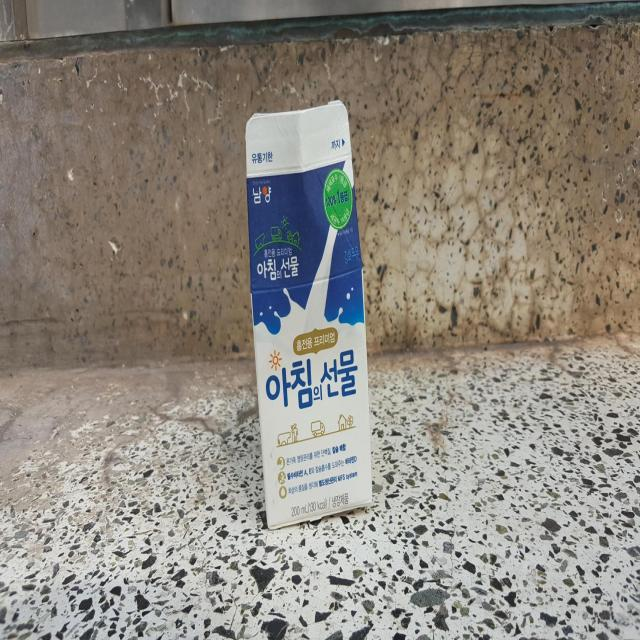paperpack: (246, 100, 372, 529)
